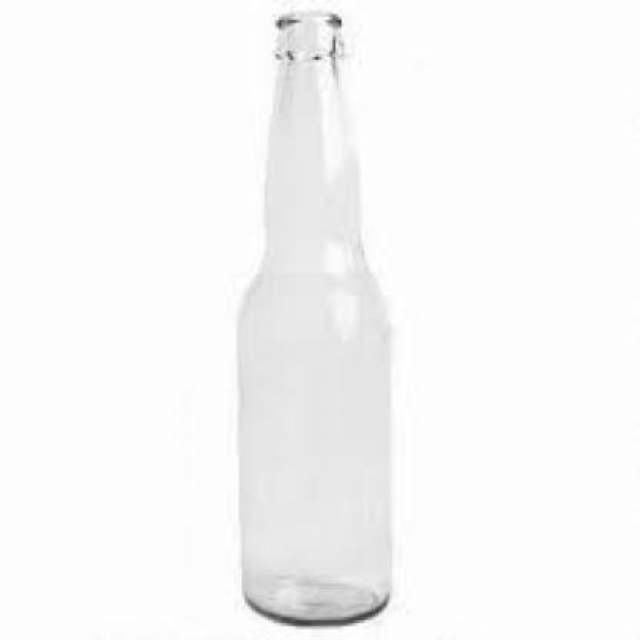trash: (238, 12, 389, 622)
